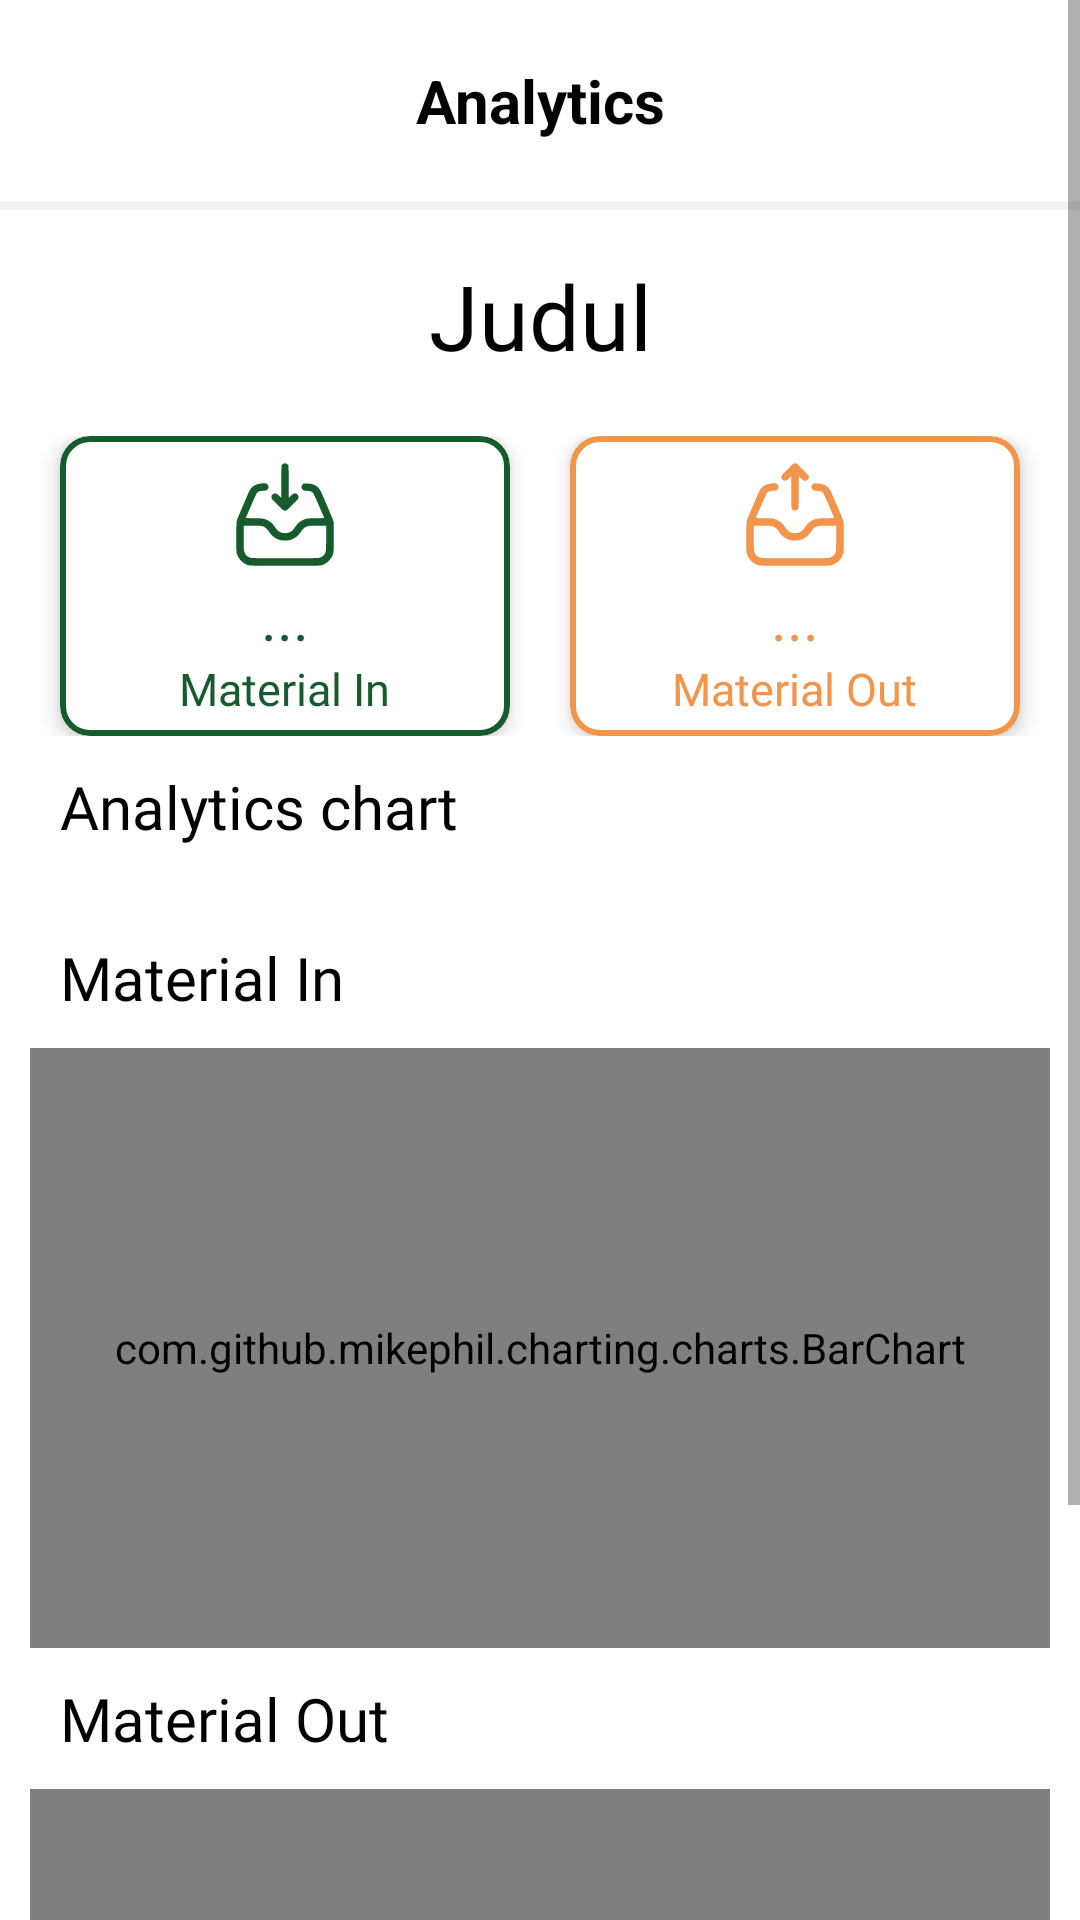

Icons on this 1080 × 1920 Android screen, each with its box as {"left": x1, "top": y1, "right": x2, "bottom": y2}:
inbox in: {"left": 236, "top": 463, "right": 334, "bottom": 566}
inbox out: {"left": 746, "top": 463, "right": 844, "bottom": 566}
